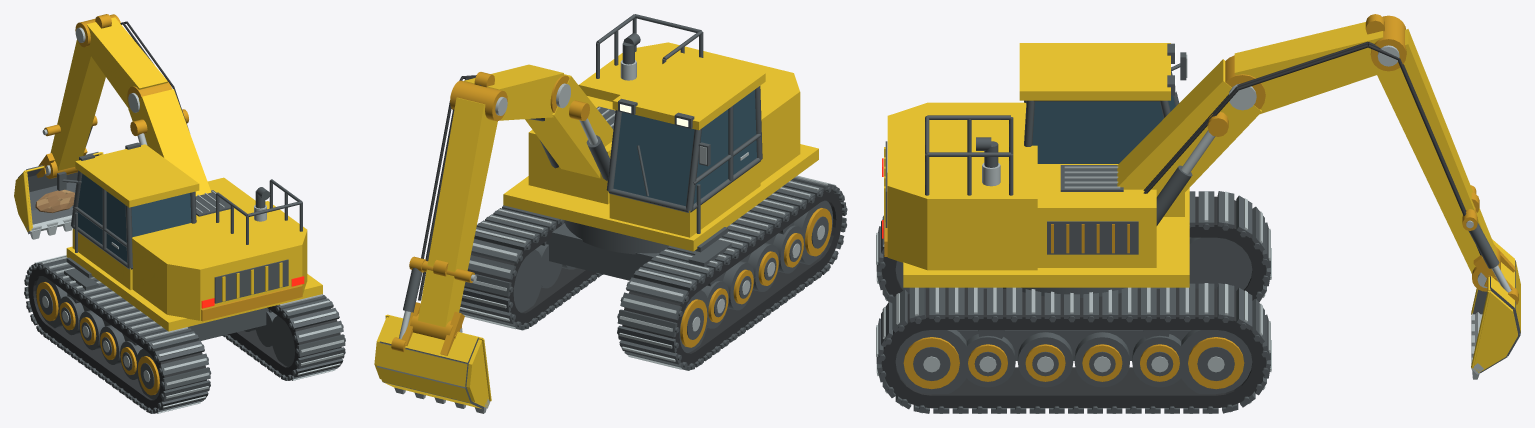
File: excavator.glb
The picture shows the model from 3 angles, left to right: view 1: azimuth 30°, elevation 25°; view 2: azimuth 150°, elevation 25°; view 3: azimuth 270°, elevation 25°; orthographic projection. The views are drawn at different scales.
Parts seen in each view (by area): view 1: Yellow tracked mining excavator; view 2: Yellow tracked mining excavator; view 3: Yellow tracked mining excavator.
Boxes of the visible parts, <box> form: Yellow tracked mining excavator: <box>14,14,345,413</box>; Yellow tracked mining excavator: <box>374,14,847,413</box>; Yellow tracked mining excavator: <box>876,14,1520,413</box>.
Size of the model in its own units: 4.48 by 5.91 by 9.75.
